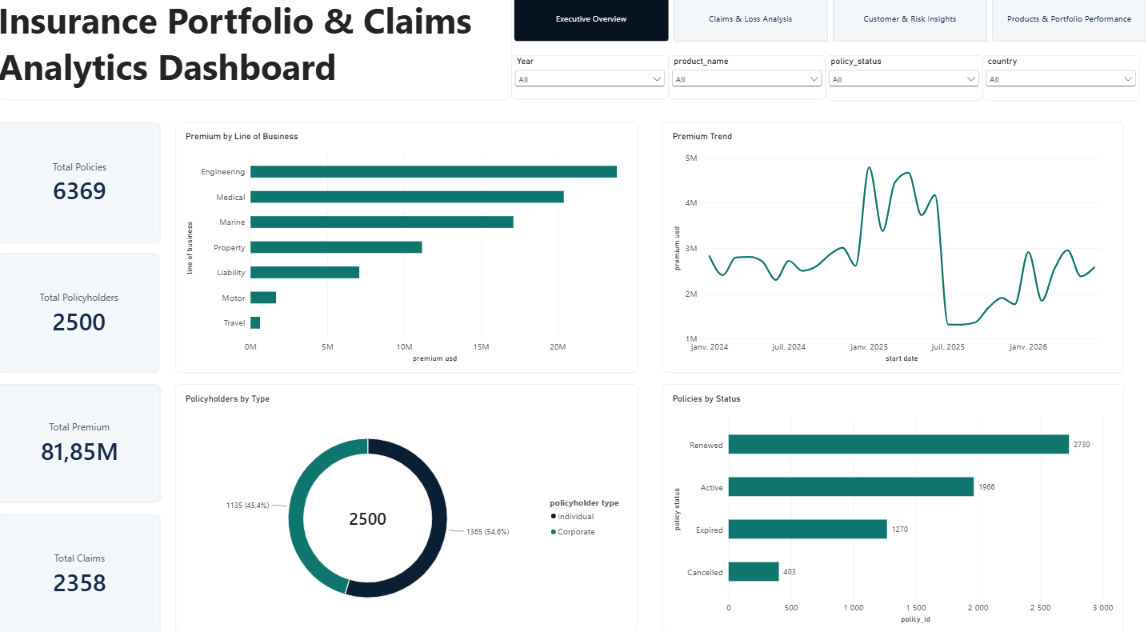

This screenshot's page, from the dashboard's own definition file:
{"tool":"powerbi","page":{"name":"Executive Overview","canvas":[1920,1080],"ordinal":0},"visuals":[{"type":"cardVisual","fields":{"Data":["public raw_policyholders.Total Policyholders"]},"box":[0,430,270,200],"z":0},{"type":"cardVisual","fields":{"Data":["public raw_policies.Total Premium"]},"box":[0,650,272,198],"z":1000},{"type":"cardVisual","fields":{"Data":["public raw_policies.Total Policies"]},"box":[0,212,272,202],"z":2000},{"type":"cardVisual","fields":{"Data":["public raw_claims.Total Claims"]},"box":[0,866,272,200],"z":3000},{"type":"clusteredBarChart","title":"Policies by Status","fields":{"Category":["public raw_policies.policy_status"],"Y":["Count(public raw_policies.policy_id)"]},"box":[1110,650,770,416],"z":4000},{"type":"clusteredBarChart","title":"Premium by Line of Business","fields":{"Category":["public raw_products.line_of_business"],"Y":["Sum(public raw_policies.premium_usd)"]},"box":[298,212,772,418],"z":5000},{"type":"lineChart","title":"Premium Trend","fields":{"Category":["public raw_policies.start_date.Variation.Date Hierarchy.Year","public raw_policies.start_date.Variation.Date Hierarchy.Month"],"Y":["Sum(public raw_policies.premium_usd)"]},"box":[1110,212,770,418],"z":6000},{"type":"donutChart","title":"Policyholders by Type","fields":{"Category":["public raw_policyholders.policyholder_type"],"Y":["Count(public raw_policyholders.policyholder_id)"]},"box":[298,650,772,416],"z":7000},{"type":"slicer","fields":{"Values":["public raw_agents.country"]},"box":[1644,100,262,76],"z":8000},{"type":"slicer","fields":{"Values":["public raw_policies.start_date.Variation.Date Hierarchy.Year"]},"box":[858,100,262,74],"z":9000},{"type":"slicer","fields":{"Values":["public raw_products.product_name"]},"box":[1120,100,262,74],"z":10000},{"type":"slicer","fields":{"Values":["public raw_policies.policy_status"]},"box":[1382,100,262,76],"z":11000},{"type":"pageNavigator","box":[862,0,1058,78],"z":12000},{"type":"textbox","box":[0,0,858,174],"z":13000}]}

Visuals, with their boxes in screenshot pixels (x1, y1, x2, y2), scaled from the page's 1920x1080 canvas onto the 1146x632 screenshot:
cardVisual - public raw_policyholders.Total Policyholders: crop(0, 252, 161, 369)
cardVisual - public raw_policies.Total Premium: crop(0, 380, 162, 496)
cardVisual - public raw_policies.Total Policies: crop(0, 124, 162, 242)
cardVisual - public raw_claims.Total Claims: crop(0, 507, 162, 624)
"Policies by Status" clusteredBarChart: crop(663, 380, 1122, 624)
"Premium by Line of Business" clusteredBarChart: crop(178, 124, 639, 369)
"Premium Trend" lineChart: crop(663, 124, 1122, 369)
"Policyholders by Type" donutChart: crop(178, 380, 639, 624)
slicer - public raw_agents.country: crop(981, 59, 1138, 103)
slicer - public raw_policies.start_date.Variation.Date Hierarchy.Year: crop(512, 59, 668, 102)
slicer - public raw_products.product_name: crop(668, 59, 825, 102)
slicer - public raw_policies.policy_status: crop(825, 59, 981, 103)
pageNavigator: crop(515, 0, 1145, 46)
textbox: crop(0, 0, 512, 102)
